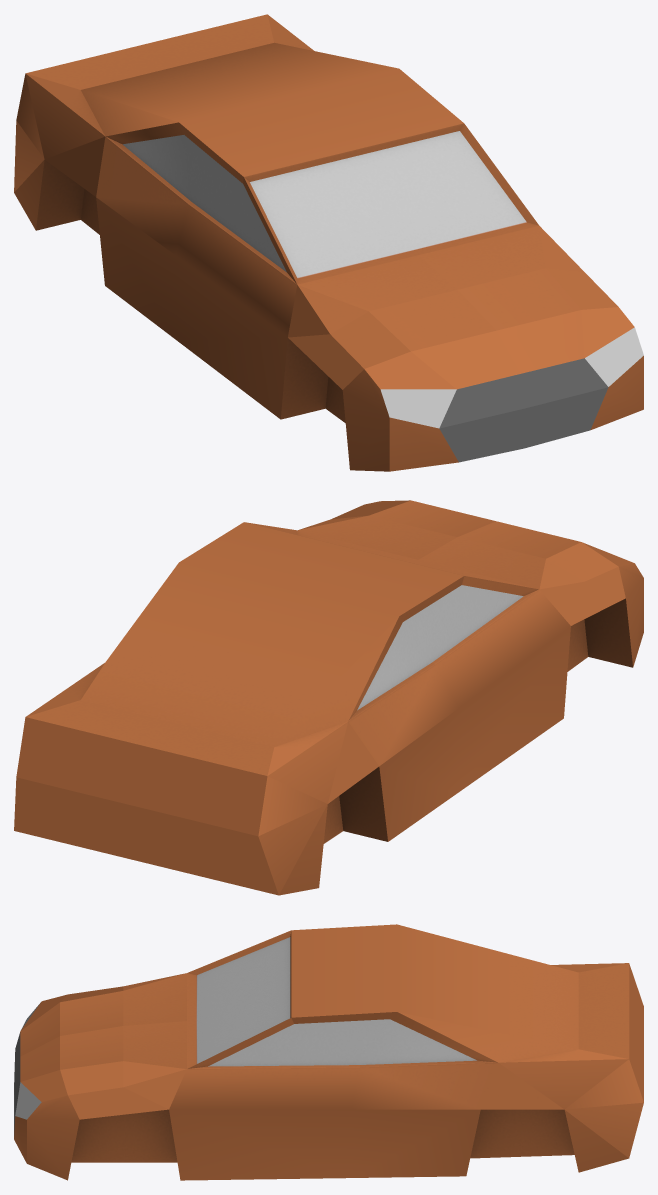
The model's file is CarModel_PropCar_Orange.fbx.
The picture shows the model from 3 angles, top to bottom: view 1: azimuth 30°, elevation 25°; view 2: azimuth 150°, elevation 25°; view 3: azimuth 270°, elevation 25°; orthographic projection. The views are drawn at different scales.
Parts seen in each view (by area): view 1: CarModel_2_Ref:pCube5; view 2: CarModel_2_Ref:pCube5; view 3: CarModel_2_Ref:pCube5.
Part boxes in pixels (<box>): CarModel_2_Ref:pCube5: <box>14,14,643,471</box>; CarModel_2_Ref:pCube5: <box>14,500,643,895</box>; CarModel_2_Ref:pCube5: <box>14,924,643,1180</box>.
Size of the model in its own units: 2.03 by 1.31 by 4.81.
Materials: 1 (1 with a texture image).
